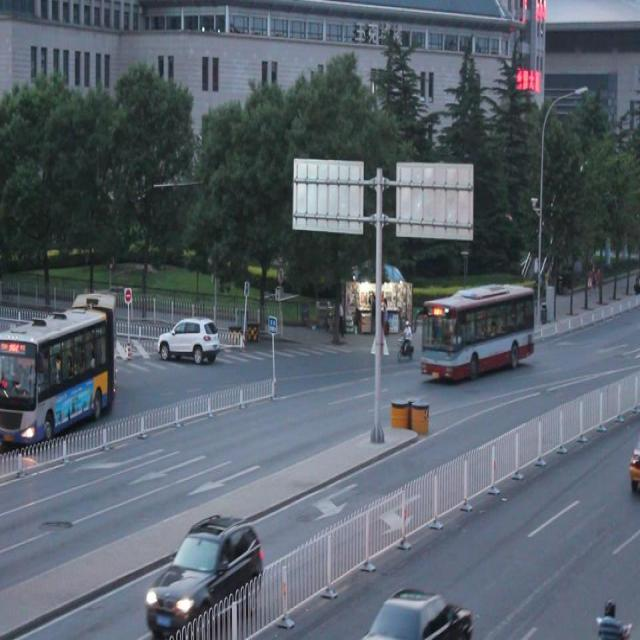car: (145, 510, 264, 632), (364, 577, 473, 640), (158, 312, 220, 363)
van: (1, 289, 117, 440), (420, 278, 534, 381)
